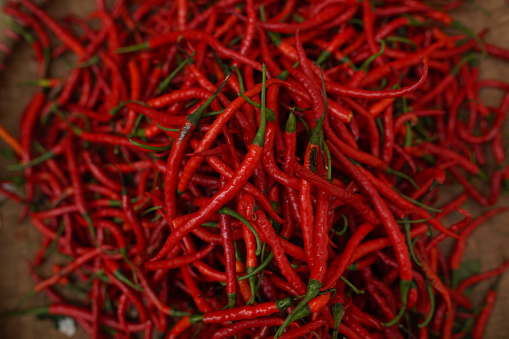Cabai: (142, 62, 329, 259)
